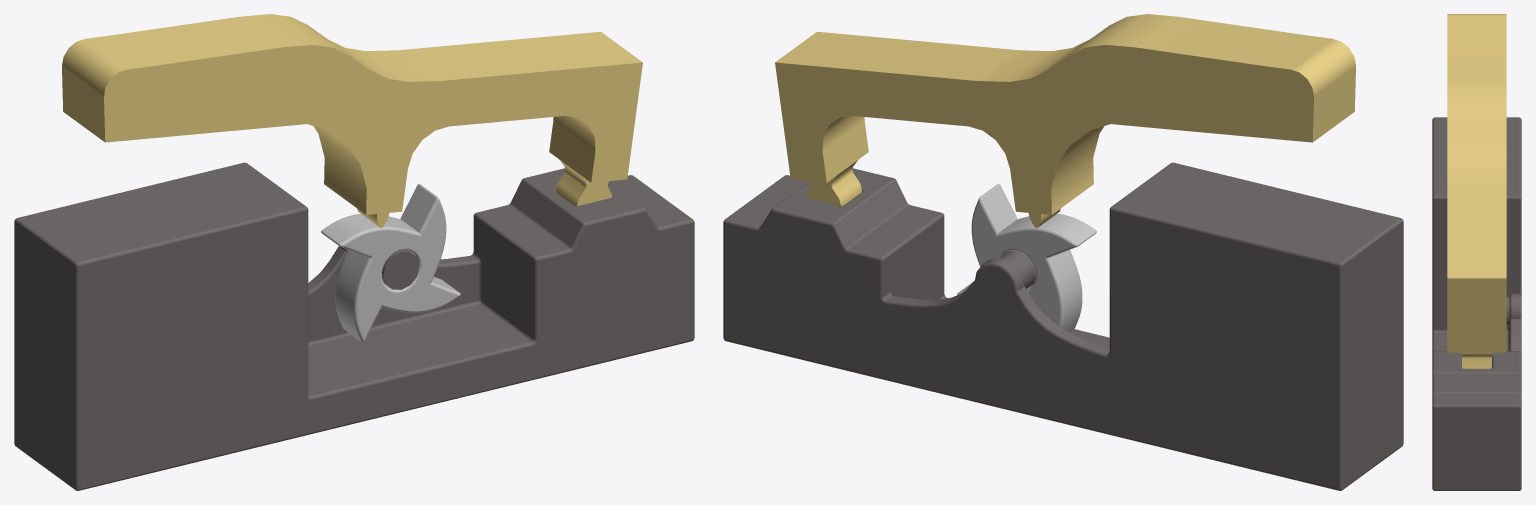
Rendered from SolidWorks_TiltHammer.dae.
3 renders of one model, left to right at view 1: azimuth 30°, elevation 25°; view 2: azimuth 150°, elevation 25°; view 3: azimuth 270°, elevation 25°, orthographic. The views are drawn at different scales.
Parts seen in each view (by area): view 1: Actor0, Actor1, Actor2; view 2: Actor0, Actor1, Actor2; view 3: Actor1, Actor0.
Part boxes in pixels (box(x1,y1,x2,y2)): Actor0: box(14, 162, 694, 490); Actor1: box(62, 14, 642, 227); Actor2: box(321, 184, 460, 342); Actor0: box(723, 162, 1403, 490); Actor1: box(775, 14, 1355, 227); Actor2: box(957, 184, 1096, 331); Actor1: box(1447, 14, 1506, 368); Actor0: box(1432, 117, 1521, 490).
Size of the model in its own units: 0.425 by 0.2626 by 0.075.
